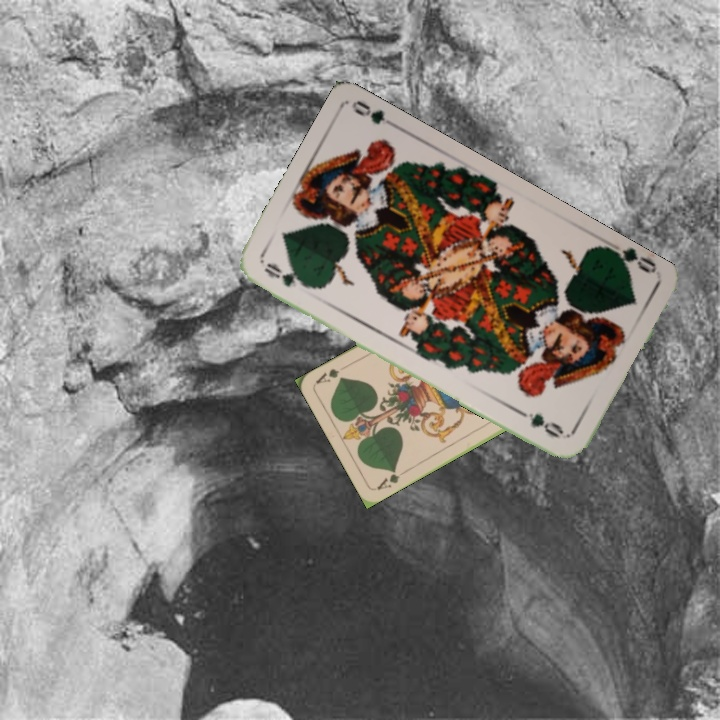GA: (373, 466, 409, 493)
GO: (604, 238, 659, 278), (260, 258, 316, 291)
